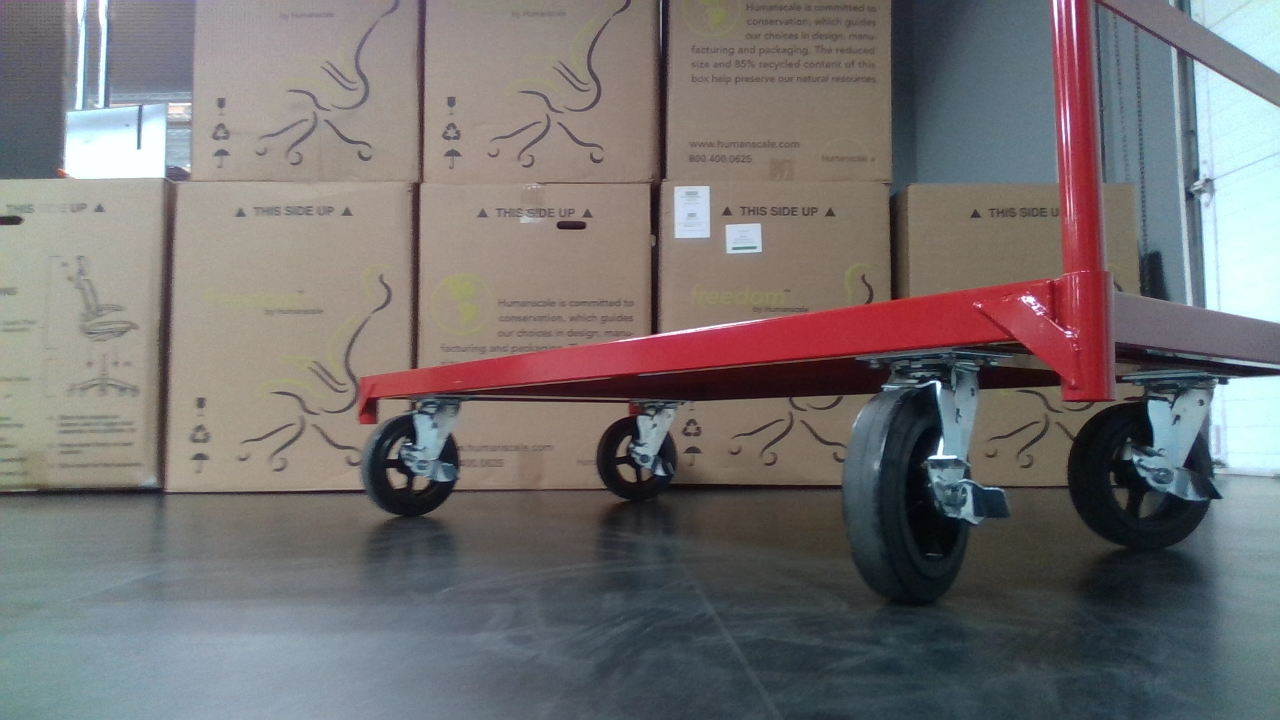Dolly: (356, 0, 1279, 616)
Wheel: (840, 364, 1011, 609), (1067, 389, 1226, 547), (359, 398, 462, 520), (593, 403, 683, 501)
